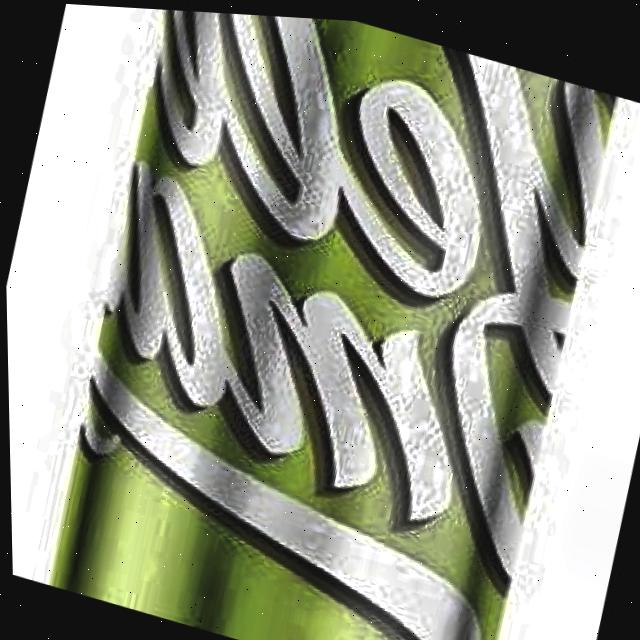metal: (10, 0, 640, 640)
